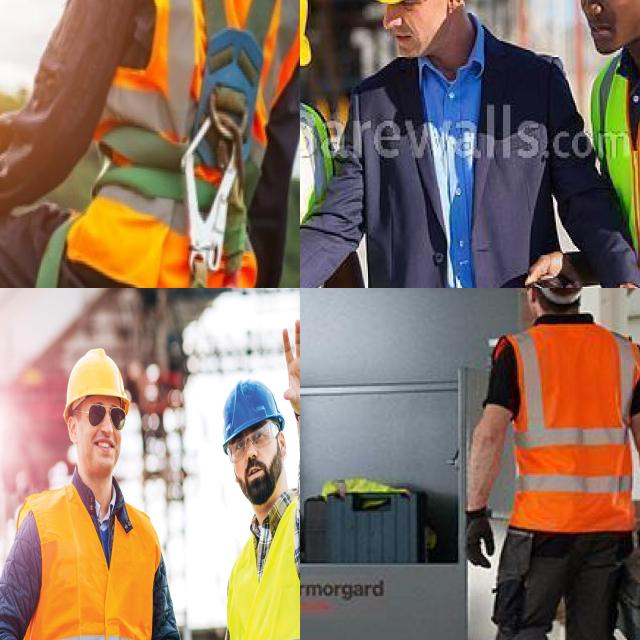Harness: (94, 0, 278, 288)
No_Ear-Protection: (443, 0, 463, 19)
face_nomask: (224, 428, 285, 507), (375, 0, 442, 57), (74, 402, 125, 475), (577, 0, 640, 53)
glasses: (226, 420, 277, 464), (83, 401, 128, 432)
hand_glove: (455, 496, 502, 580)
hand_noglove: (279, 327, 300, 413)
head_helmet: (54, 334, 141, 418), (205, 369, 292, 452)
person: (0, 314, 190, 640), (467, 288, 640, 640), (359, 0, 548, 288), (193, 323, 300, 640), (567, 0, 640, 288)
vest: (0, 460, 177, 640), (491, 320, 640, 533), (211, 476, 300, 640), (599, 64, 640, 288)
